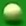white: (0, 0, 26, 26)
